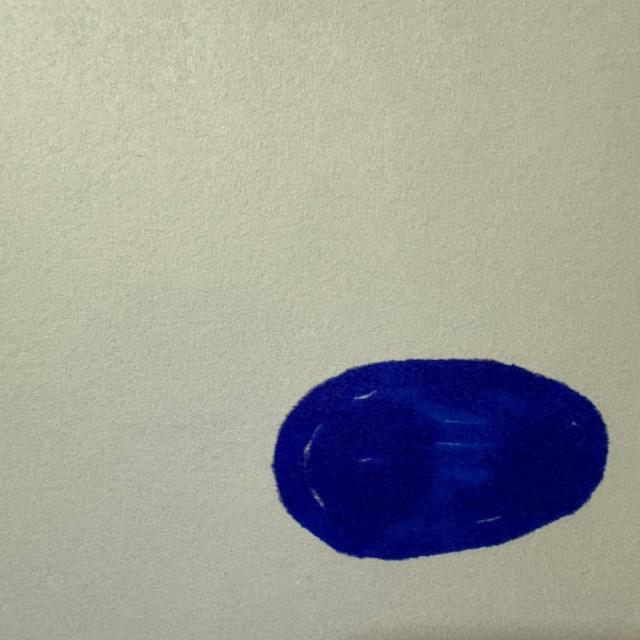Circle: (264, 354, 616, 564)
